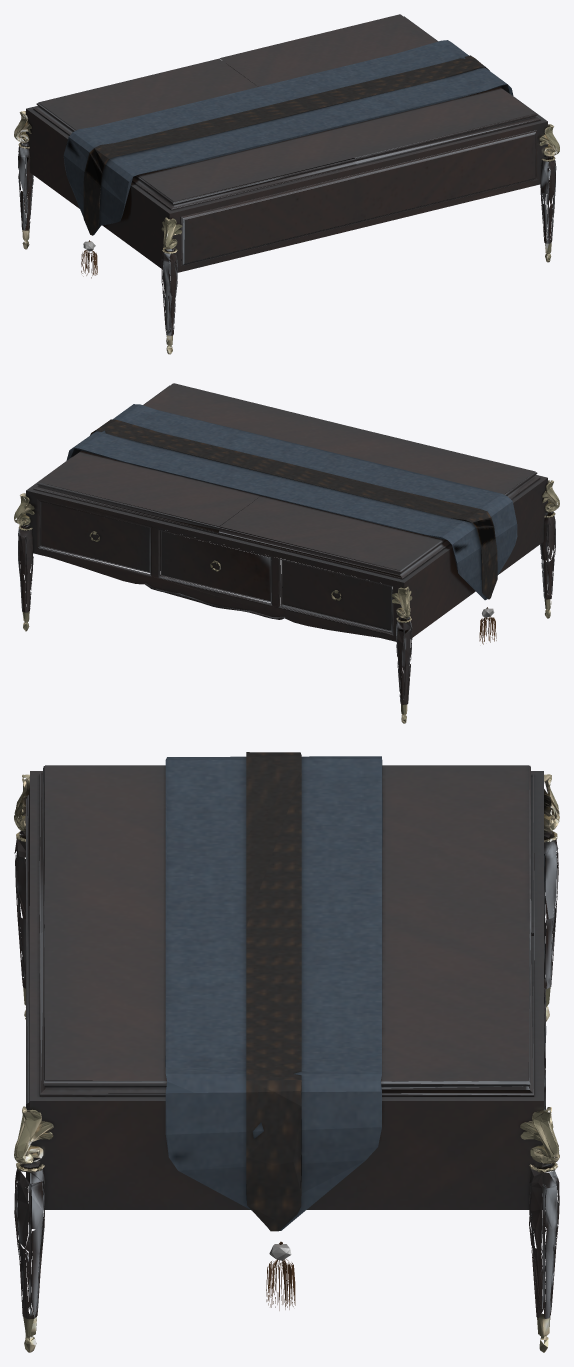
3 views of the same model, one above another, from view 1: azimuth 30°, elevation 25°; view 2: azimuth 150°, elevation 25°; view 3: azimuth 270°, elevation 25° (orthographic). The views are drawn at different scales.
Parts seen in each view (by area): view 1: Node; view 2: Node; view 3: Node.
Boxes of the visible parts, x1,y1,x2,y2 form: Node: (14,14,559,354); Node: (14,383,559,723); Node: (14,752,559,1352).
Size of the model in its own units: 1.37 by 0.4883 by 0.8865.
1 material, 1 textured.
